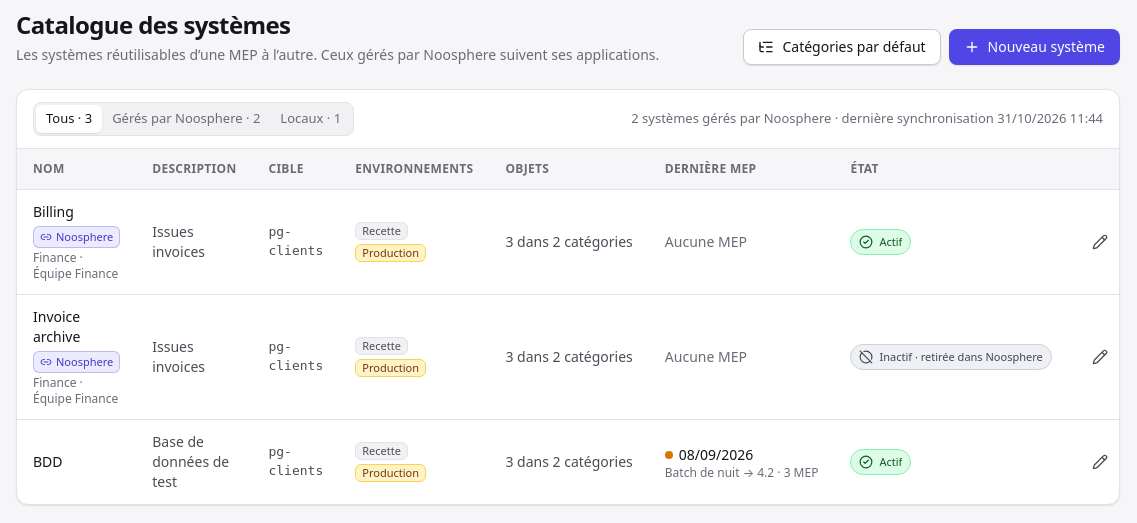
Test: Catalogue des systèmes : systèmes gérés par Noosphere › la liste marque les systèmes gérés, filtre par source et ne propose pas de les supprimer
Expected: the text "Noosphere" below "Billing" is shown, x1=56 y1=229 x2=113 y2=244
Expected: the text "Finance · Équipe Finance" below "Billing" is shown, x1=33 y1=249 x2=118 y2=282
Click the radio button labelled "Locaux · 1": (311, 119) x1=270 y1=105 x2=351 y2=133
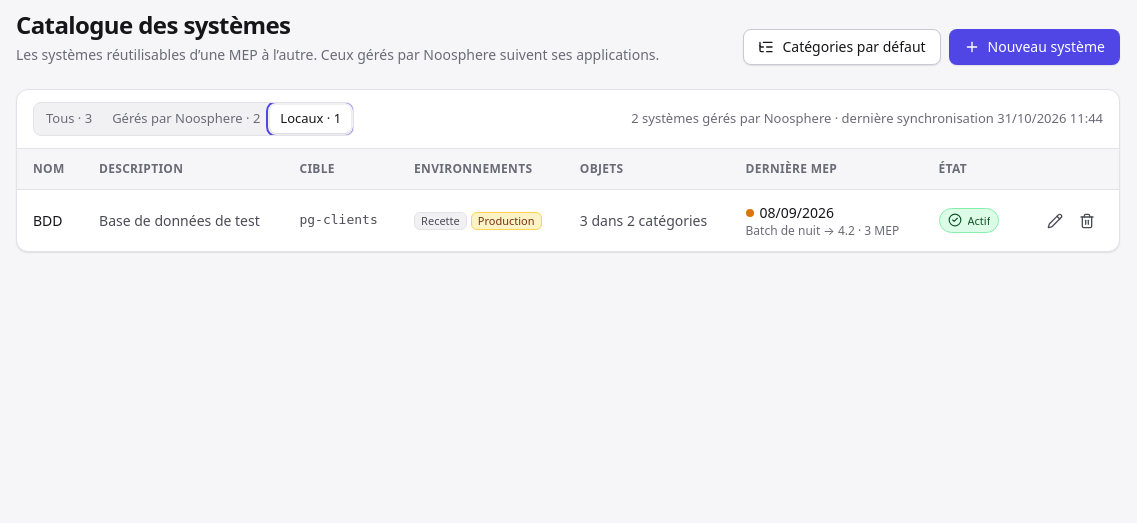
Expected: the column heading "BDD" is shown, x1=17 y1=190 x2=83 y2=251
Expected: the link "Billing" is gone
